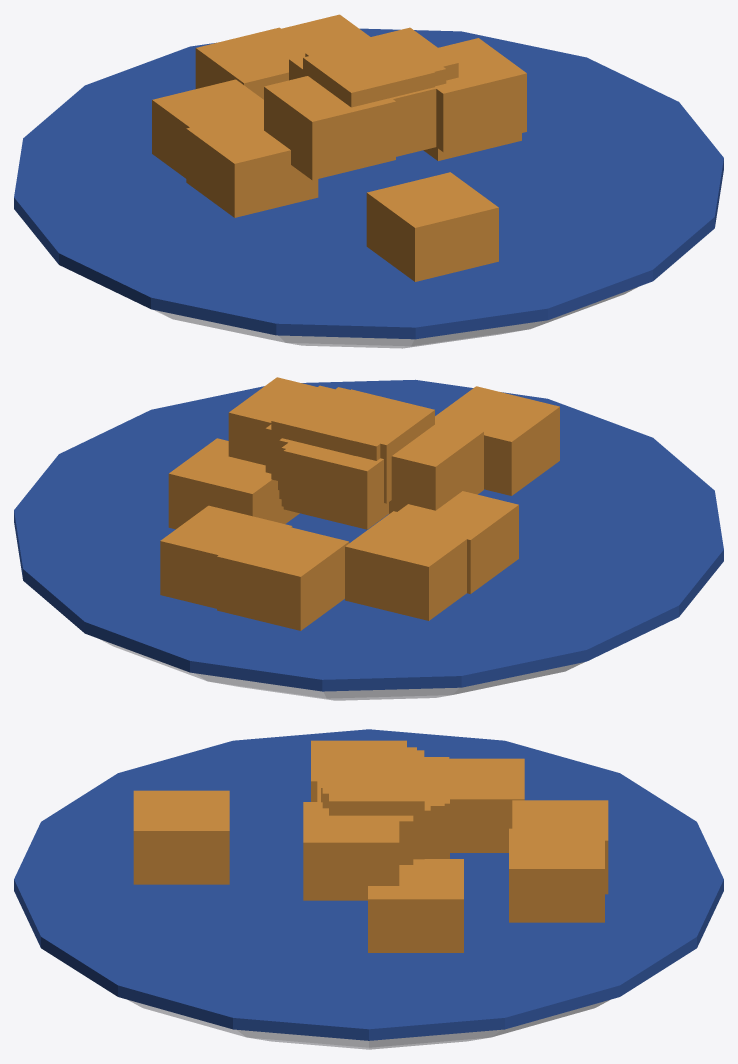
The model's file is BoorsokPlate.obj.
3 views of the same model, one above another, from view 1: azimuth 30°, elevation 25°; view 2: azimuth 150°, elevation 25°; view 3: azimuth 270°, elevation 25° (orthographic).
Visible parts, largest first — view 1: BoorsokPlate; view 2: BoorsokPlate; view 3: BoorsokPlate.
Boxes of the visible parts, box(x1,y1,x2,y2) form: BoorsokPlate: box(14, 14, 723, 348); BoorsokPlate: box(14, 377, 723, 700); BoorsokPlate: box(14, 729, 723, 1049).
Bounding box in the file's own units: 0.444 × 0.12 × 0.444.
